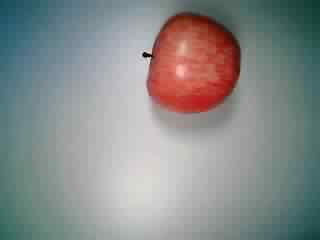apple: (137, 11, 243, 115)
